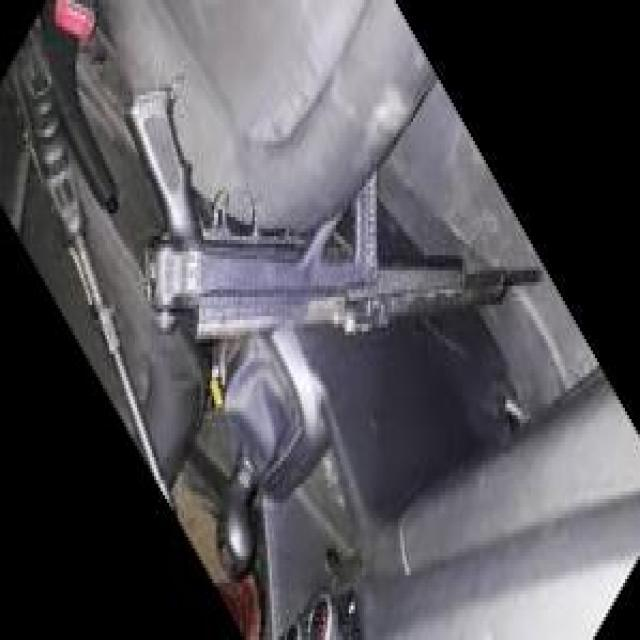weapon: (125, 87, 542, 346)
